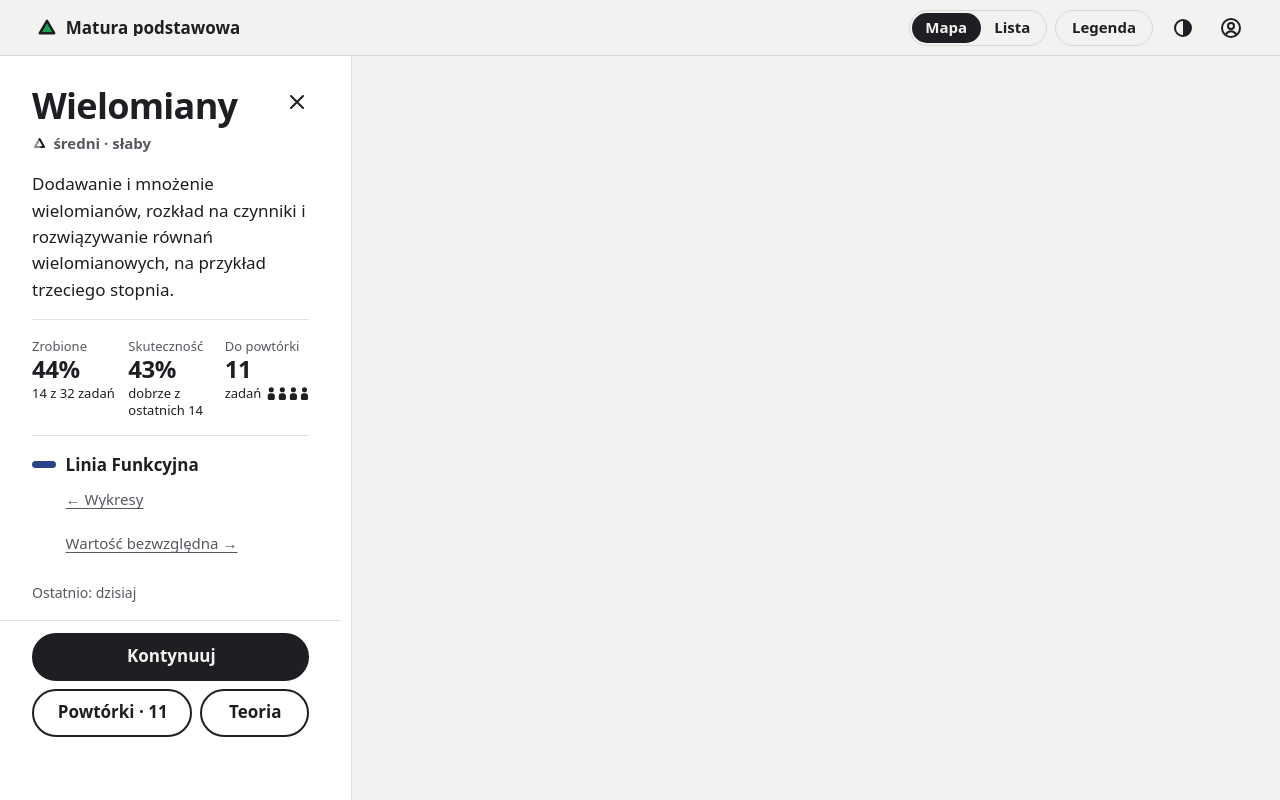
Scenario: ExamView on a computer › puts the chosen topic in place of the menu and brings the menu back
Expected: the heading "Wielomiany" is shown, top-left (32, 88), bottom-right (237, 124)
Click the button named "Zamknij": (297, 102) top-left (275, 80), bottom-right (319, 124)
(page scrolled)
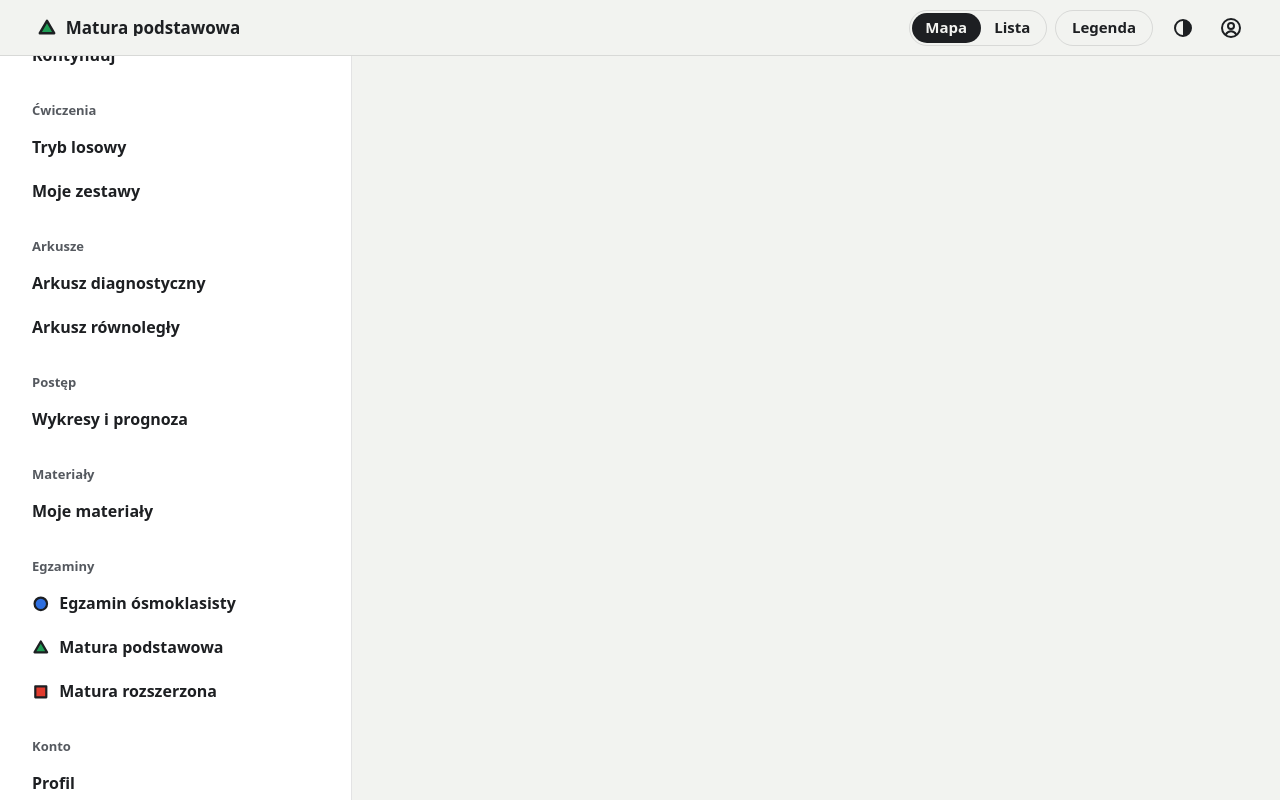
Expected: the navigation bar is shown, top-left (32, 56), bottom-right (236, 799)
